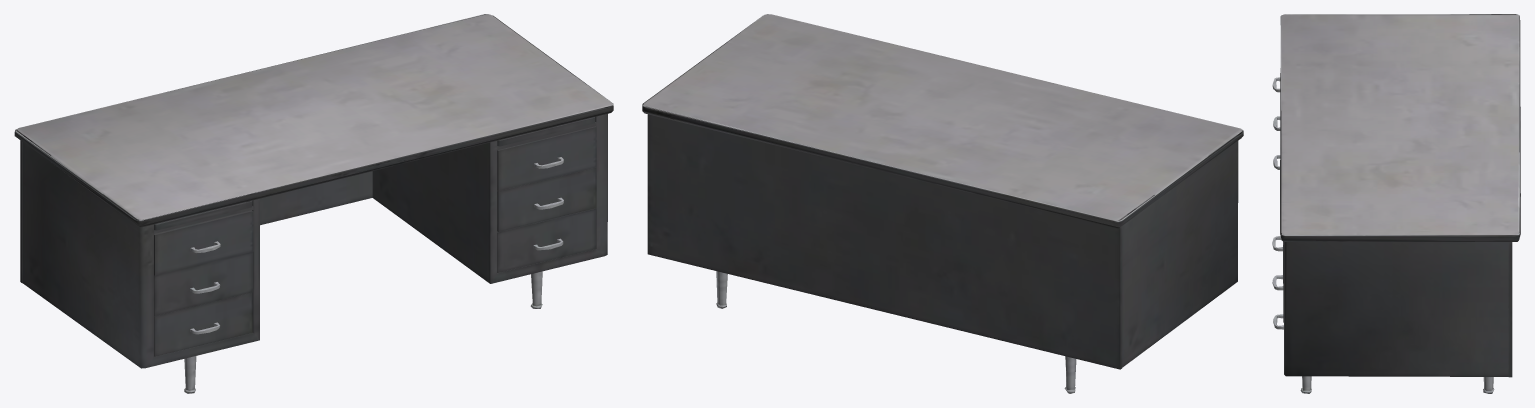
Rendered from desk.glb.
3 renders of one model, left to right at view 1: azimuth 30°, elevation 25°; view 2: azimuth 150°, elevation 25°; view 3: azimuth 270°, elevation 25°, orthographic. The views are drawn at different scales.
Visible parts, largest first — view 1: metal_office_desk, metal_office_desk_drawer_04, metal_office_desk_drawer_01, metal_office_desk_drawer_02, metal_office_desk_drawer_03, metal_office_desk_drawer_06, metal_office_desk_drawer_05, metal_office_desk_tray_01, metal_office_desk_tray_02; view 2: metal_office_desk; view 3: metal_office_desk.
Boxes of the visible parts, bbox=[...] form: metal_office_desk: bbox=[14, 14, 613, 393]; metal_office_desk_drawer_04: bbox=[154, 210, 253, 275]; metal_office_desk_drawer_01: bbox=[497, 126, 596, 191]; metal_office_desk_drawer_02: bbox=[497, 167, 596, 231]; metal_office_desk_drawer_03: bbox=[497, 208, 595, 272]; metal_office_desk_drawer_06: bbox=[154, 292, 252, 356]; metal_office_desk_drawer_05: bbox=[154, 252, 252, 316]; metal_office_desk_tray_01: bbox=[154, 200, 252, 230]; metal_office_desk_tray_02: bbox=[497, 117, 595, 146]; metal_office_desk: bbox=[642, 14, 1243, 393]; metal_office_desk: bbox=[1280, 14, 1520, 393].
Size of the model in its own units: 2 by 0.7867 by 0.947.
Materials: 1 (1 with a texture image).
